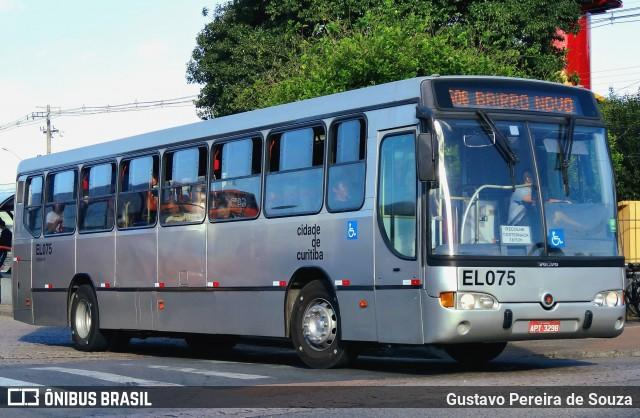BAIRRO NOVO: (471, 86, 578, 116)
